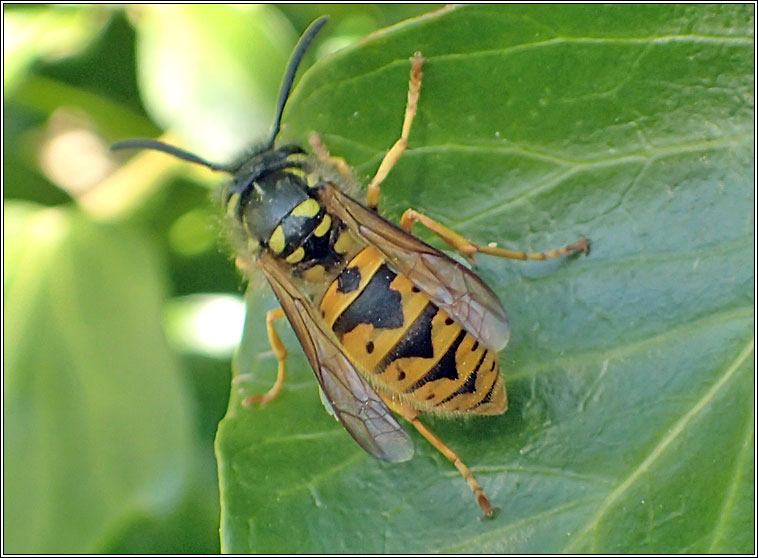chax: (108, 9, 637, 522)
